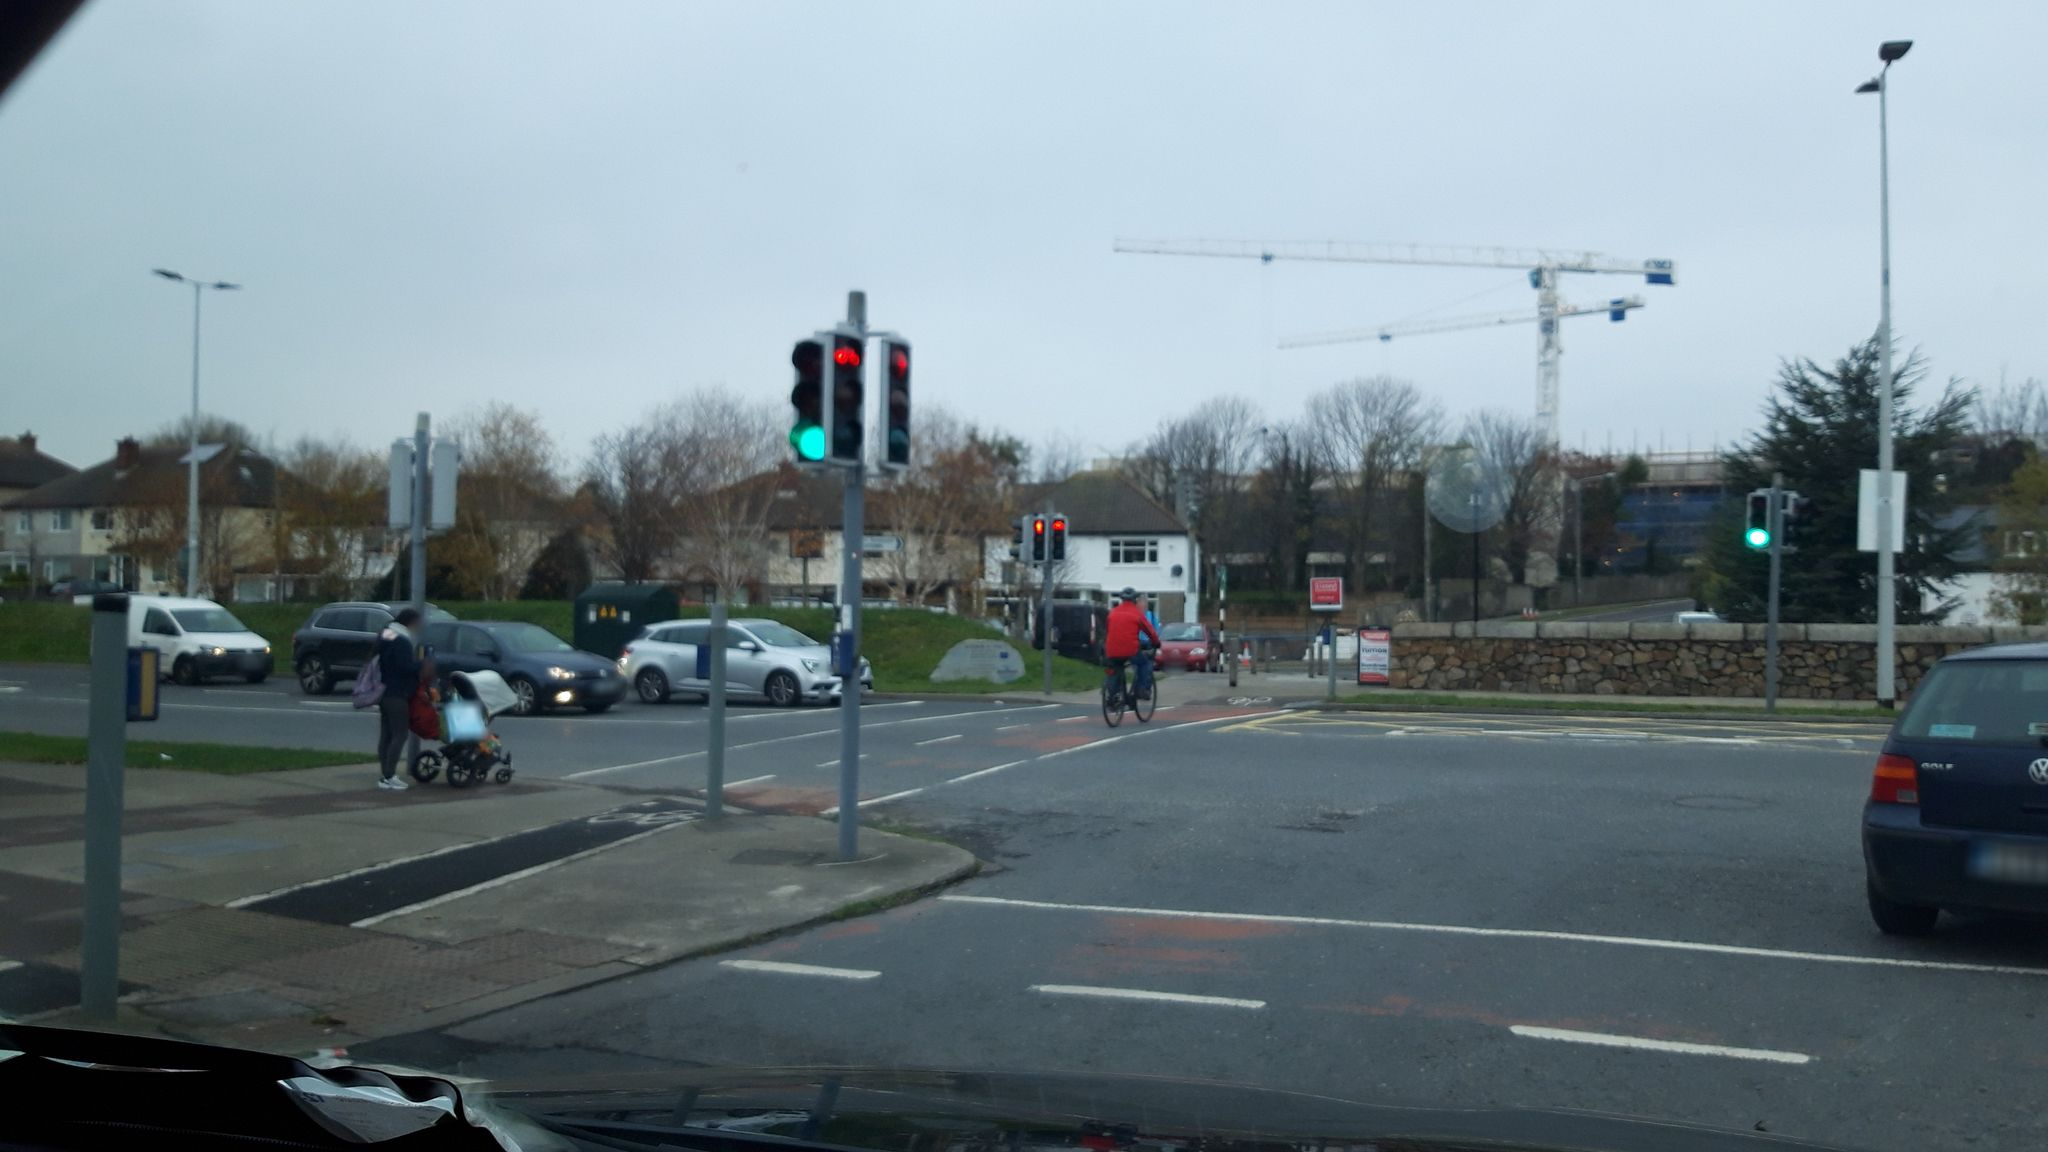property sign: (1303, 564, 1352, 608)
